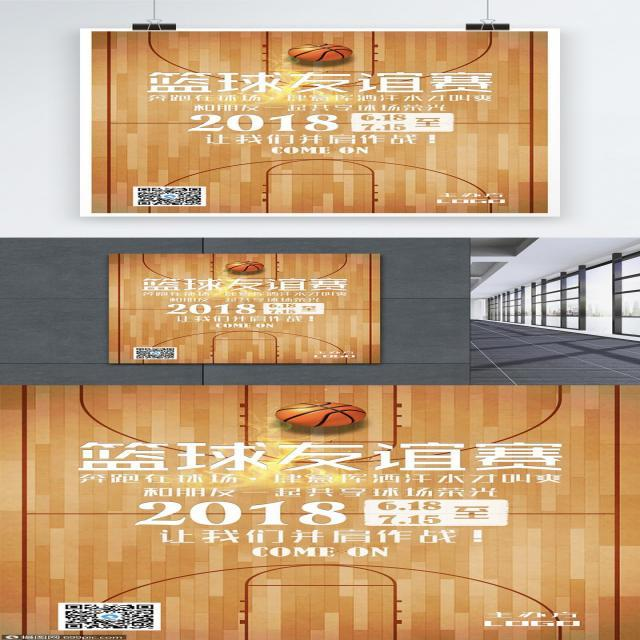rim: (285, 403, 365, 429), (284, 42, 354, 65), (221, 260, 268, 274)
